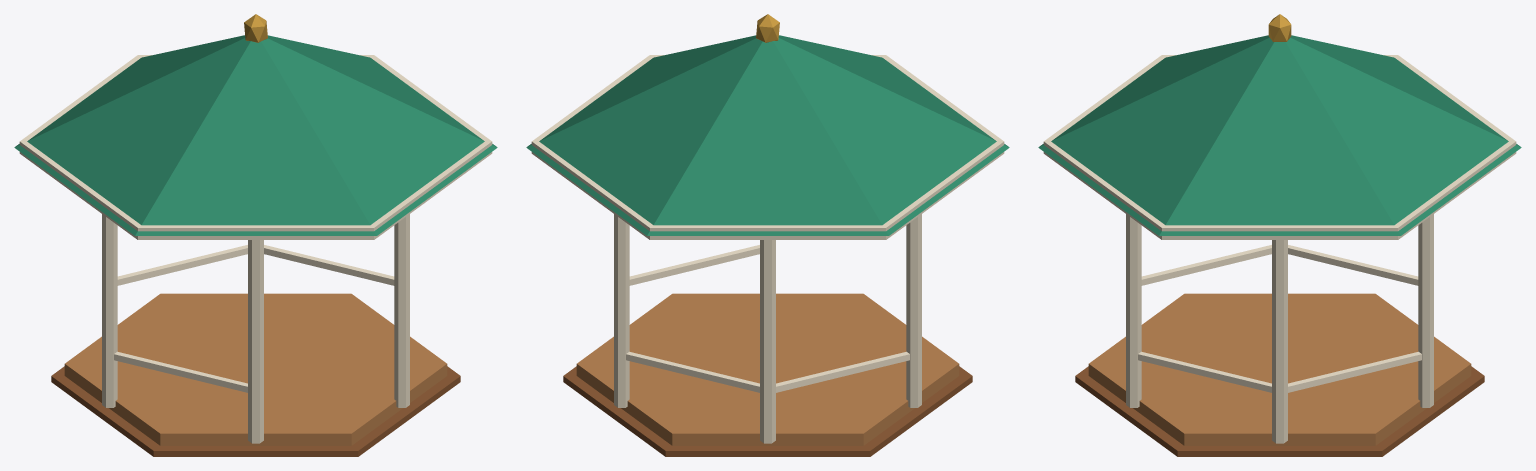
Rendered from gazebo.glb.
The picture shows the model from 3 angles, left to right: view 1: azimuth 30°, elevation 25°; view 2: azimuth 150°, elevation 25°; view 3: azimuth 270°, elevation 25°; orthographic projection.
Visible parts, largest first — view 1: gazebo; view 2: gazebo; view 3: gazebo.
Part boxes in pixels (left/top/right/bottom): gazebo: left=14, top=14, right=497, bottom=456; gazebo: left=526, top=14, right=1009, bottom=456; gazebo: left=1038, top=14, right=1521, bottom=456.
Size of the model in its own units: 3.72 by 3.61 by 4.3.
